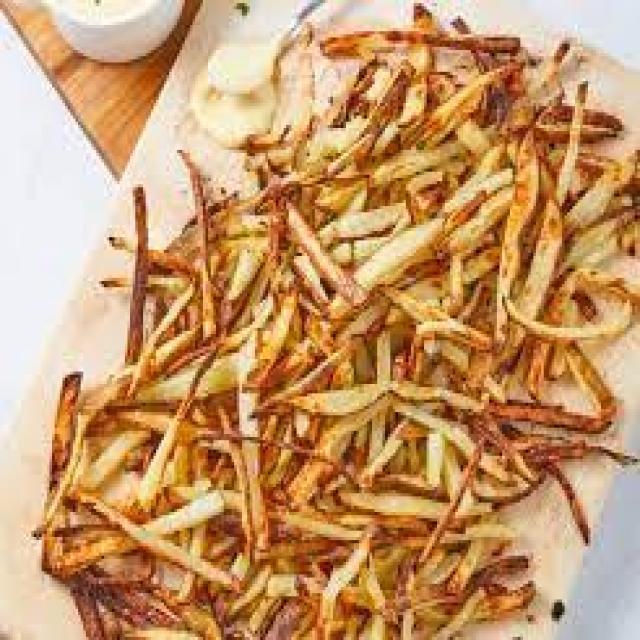Fries: (68, 50, 627, 640)
